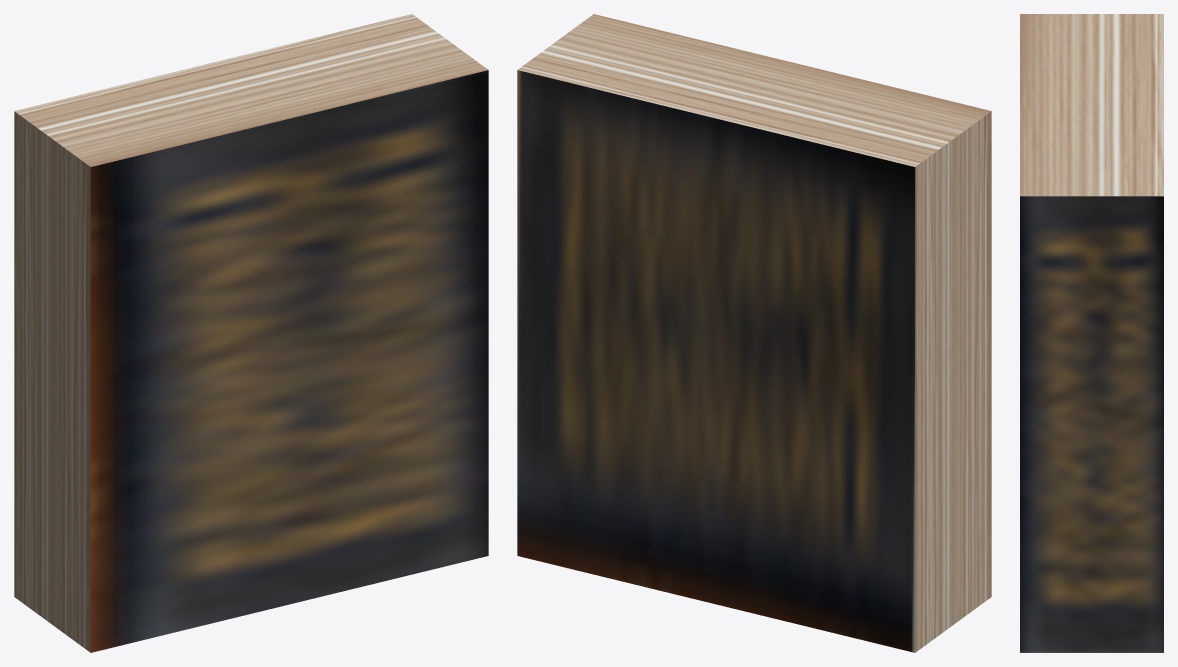
The model's file is book_m.glb.
3 renders of one model, left to right at view 1: azimuth 30°, elevation 25°; view 2: azimuth 150°, elevation 25°; view 3: azimuth 270°, elevation 25°, orthographic. The views are drawn at different scales.
Parts seen in each view (by area): view 1: Cubo.076; view 2: Cubo.076; view 3: Cubo.076.
Boxes of the visible parts, bbox=[...] form: Cubo.076: bbox=[14, 14, 488, 652]; Cubo.076: bbox=[517, 14, 991, 652]; Cubo.076: bbox=[1020, 14, 1163, 652].
Bounding box in the file's own units: 0.3 × 0.35 × 0.1.
1 material, 1 textured.
